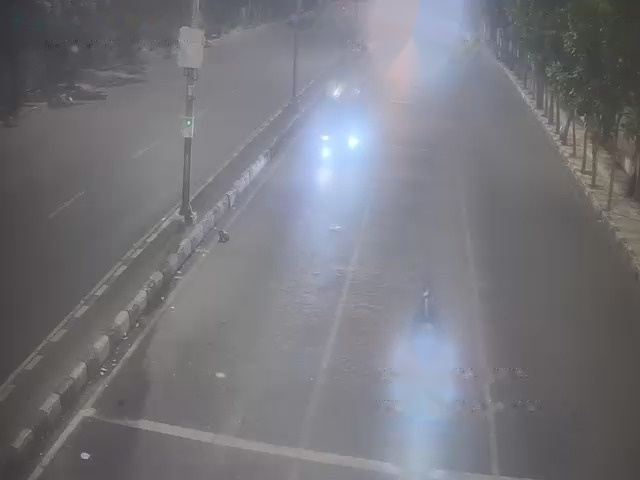Mobil: (321, 86, 366, 167)
Motor: (404, 317, 451, 377)
